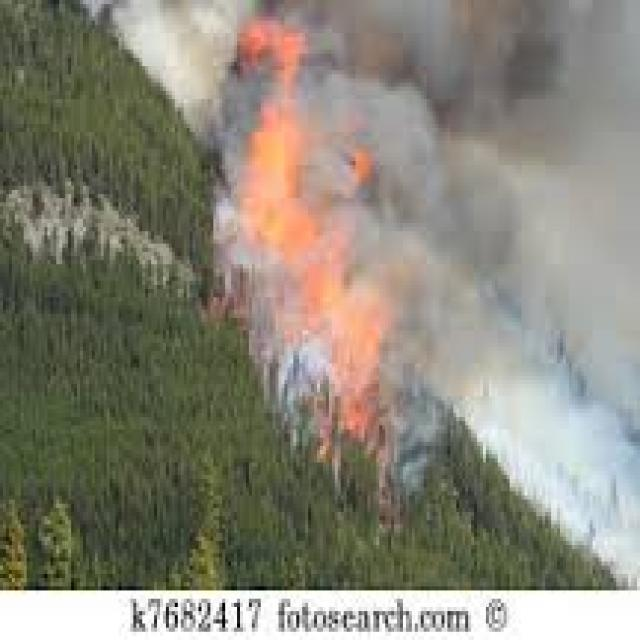Fire: (306, 246, 371, 356), (244, 131, 294, 234), (246, 22, 302, 72), (343, 404, 368, 438)
Smoke: (412, 21, 623, 346), (382, 86, 430, 222)
